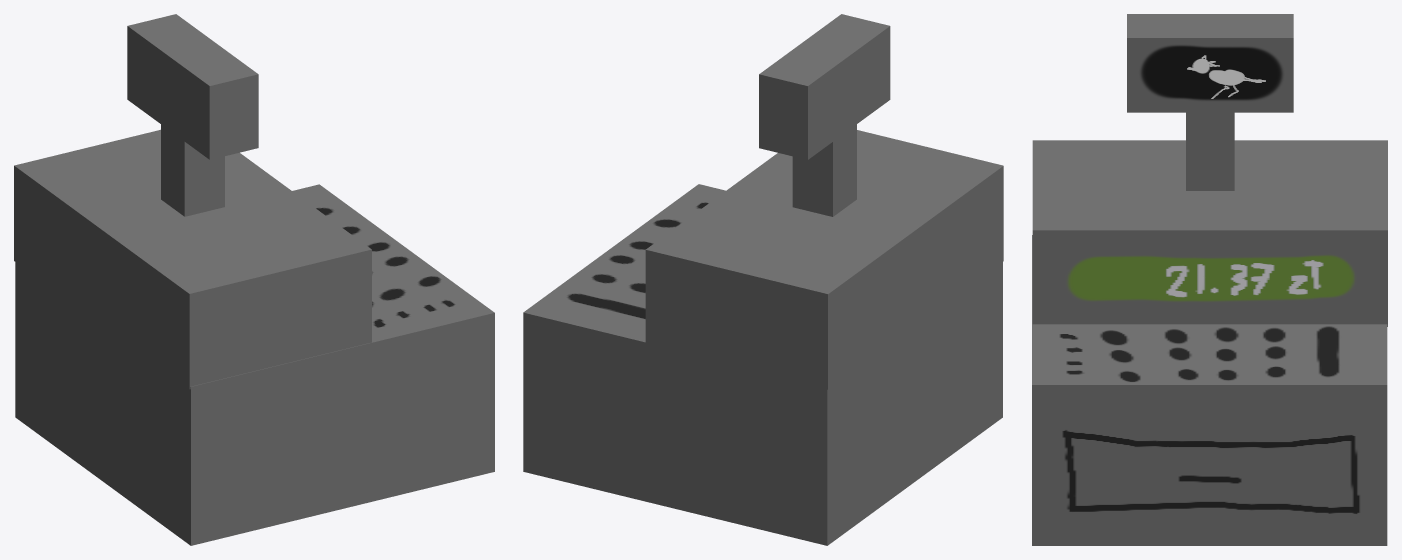
File: Kasa-fiskalna.fbx
3 renders of one model, left to right at view 1: azimuth 30°, elevation 25°; view 2: azimuth 150°, elevation 25°; view 3: azimuth 270°, elevation 25°, orthographic.
Visible parts, largest first — view 1: Cube, Cube.001, Cube.003, Cube.002; view 2: Cube, Cube.001, Cube.003, Cube.002; view 3: Cube, Cube.001, Cube.003, Cube.002.
Part boxes in pixels (x1,y1,x2,y2): Cube: [15, 184, 494, 545]; Cube.001: [14, 129, 371, 389]; Cube.003: [127, 14, 258, 159]; Cube.002: [161, 124, 224, 216]; Cube: [523, 184, 1002, 545]; Cube.001: [645, 130, 1003, 389]; Cube.003: [759, 14, 890, 159]; Cube.002: [792, 124, 856, 216]; Cube: [1032, 235, 1387, 545]; Cube.001: [1032, 140, 1387, 326]; Cube.003: [1127, 14, 1293, 112]; Cube.002: [1186, 112, 1234, 190].
Bounding box in the file's own units: 201 × 257 × 200.
